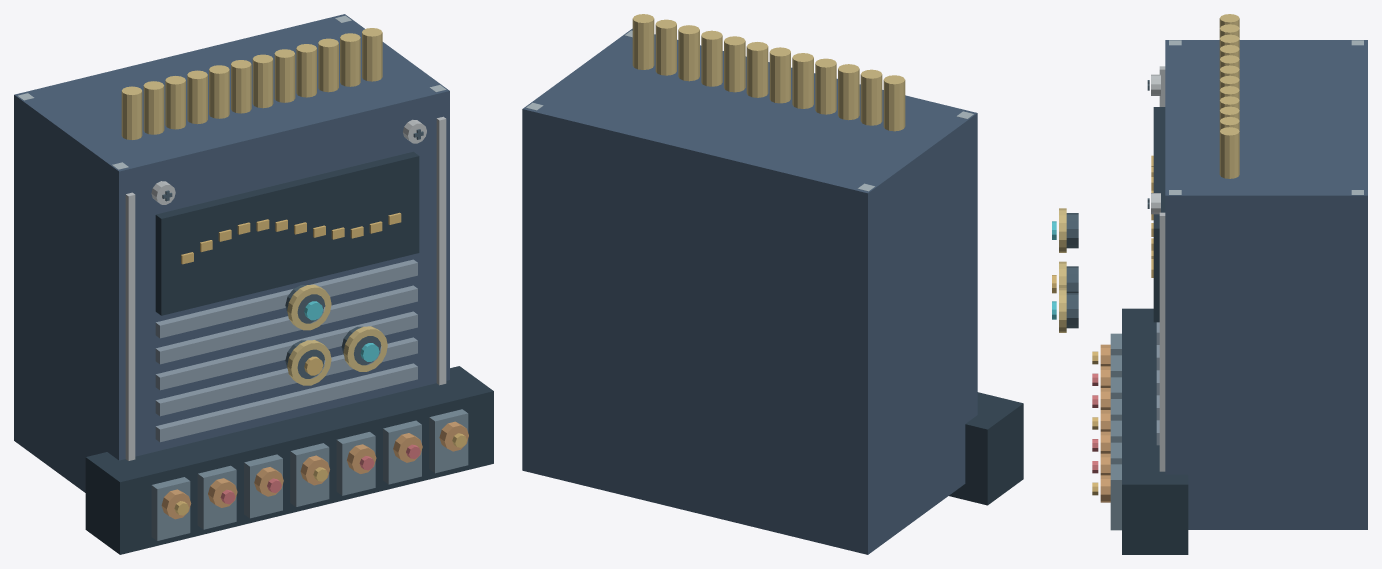
Rendered from 19_L83_PVStringBypassDiodeBank.glb.
The picture shows the model from 3 angles, left to right: view 1: azimuth 30°, elevation 25°; view 2: azimuth 150°, elevation 25°; view 3: azimuth 270°, elevation 25°; orthographic projection. The views are drawn at different scales.
Visible parts, largest first — view 1: PVStringBypassDiodeBank_Node_0000, PVStringBypassDiodeBank_Node_0007, PVStringBypassDiodeBank_Node_0046, PVStringBypassDiodeBank_Node_0021, PVStringBypassDiodeBank_Node_0024, PVStringBypassDiodeBank_Node_0025, PVStringBypassDiodeBank_Node_0023, PVStringBypassDiodeBank_Node_0022, PVStringBypassDiodeBank_Node_0005, PVStringBypassDiodeBank_Node_0006, PVStringBypassDiodeBank_Node_0050, PVStringBypassDiodeBank_Node_0059 (+20 smaller); view 2: PVStringBypassDiodeBank_Node_0000, PVStringBypassDiodeBank_Node_0046, PVStringBypassDiodeBank_Node_0069, PVStringBypassDiodeBank_Node_0068, PVStringBypassDiodeBank_Node_0079, PVStringBypassDiodeBank_Node_0074, PVStringBypassDiodeBank_Node_0076, PVStringBypassDiodeBank_Node_0078, PVStringBypassDiodeBank_Node_0070, PVStringBypassDiodeBank_Node_0073, PVStringBypassDiodeBank_Node_0075, PVStringBypassDiodeBank_Node_0077 (+2 smaller); view 3: PVStringBypassDiodeBank_Node_0000, PVStringBypassDiodeBank_Node_0046, PVStringBypassDiodeBank_Node_0007, PVStringBypassDiodeBank_Node_0006, PVStringBypassDiodeBank_Node_0079, PVStringBypassDiodeBank_Node_0065, PVStringBypassDiodeBank_Node_0090, PVStringBypassDiodeBank_Node_0093.
Part boxes in pixels (bbox=[...]): PVStringBypassDiodeBank_Node_0000: bbox=[14, 14, 449, 492]; PVStringBypassDiodeBank_Node_0007: bbox=[155, 151, 419, 315]; PVStringBypassDiodeBank_Node_0046: bbox=[85, 366, 493, 554]; PVStringBypassDiodeBank_Node_0021: bbox=[155, 363, 417, 442]; PVStringBypassDiodeBank_Node_0024: bbox=[155, 285, 417, 364]; PVStringBypassDiodeBank_Node_0025: bbox=[155, 259, 417, 338]; PVStringBypassDiodeBank_Node_0023: bbox=[155, 311, 417, 390]; PVStringBypassDiodeBank_Node_0022: bbox=[155, 337, 417, 416]; PVStringBypassDiodeBank_Node_0005: bbox=[125, 192, 135, 460]; PVStringBypassDiodeBank_Node_0006: bbox=[436, 116, 446, 385]; PVStringBypassDiodeBank_Node_0050: bbox=[197, 465, 236, 529]; PVStringBypassDiodeBank_Node_0059: bbox=[336, 432, 375, 495]; PVStringBypassDiodeBank_Node_0000: bbox=[522, 28, 977, 554]; PVStringBypassDiodeBank_Node_0046: bbox=[949, 392, 1023, 505]; PVStringBypassDiodeBank_Node_0069: bbox=[860, 69, 882, 125]; PVStringBypassDiodeBank_Node_0068: bbox=[883, 75, 905, 131]; PVStringBypassDiodeBank_Node_0079: bbox=[632, 14, 654, 69]; PVStringBypassDiodeBank_Node_0074: bbox=[746, 42, 768, 97]; PVStringBypassDiodeBank_Node_0076: bbox=[701, 30, 722, 86]; PVStringBypassDiodeBank_Node_0078: bbox=[655, 19, 676, 75]; PVStringBypassDiodeBank_Node_0070: bbox=[838, 64, 859, 120]; PVStringBypassDiodeBank_Node_0073: bbox=[769, 47, 790, 103]; PVStringBypassDiodeBank_Node_0075: bbox=[724, 36, 745, 92]; PVStringBypassDiodeBank_Node_0077: bbox=[678, 25, 699, 81]; PVStringBypassDiodeBank_Node_0000: bbox=[1165, 40, 1367, 529]; PVStringBypassDiodeBank_Node_0046: bbox=[1122, 308, 1188, 554]; PVStringBypassDiodeBank_Node_0007: bbox=[1153, 107, 1165, 322]; PVStringBypassDiodeBank_Node_0006: bbox=[1159, 212, 1165, 471]; PVStringBypassDiodeBank_Node_0079: bbox=[1219, 127, 1239, 178]; PVStringBypassDiodeBank_Node_0065: bbox=[1110, 464, 1121, 530]; PVStringBypassDiodeBank_Node_0090: bbox=[1066, 293, 1078, 328]; PVStringBypassDiodeBank_Node_0093: bbox=[1066, 213, 1078, 248].
Bounding box in the file's own units: 1.13 × 1.17 × 0.857.
